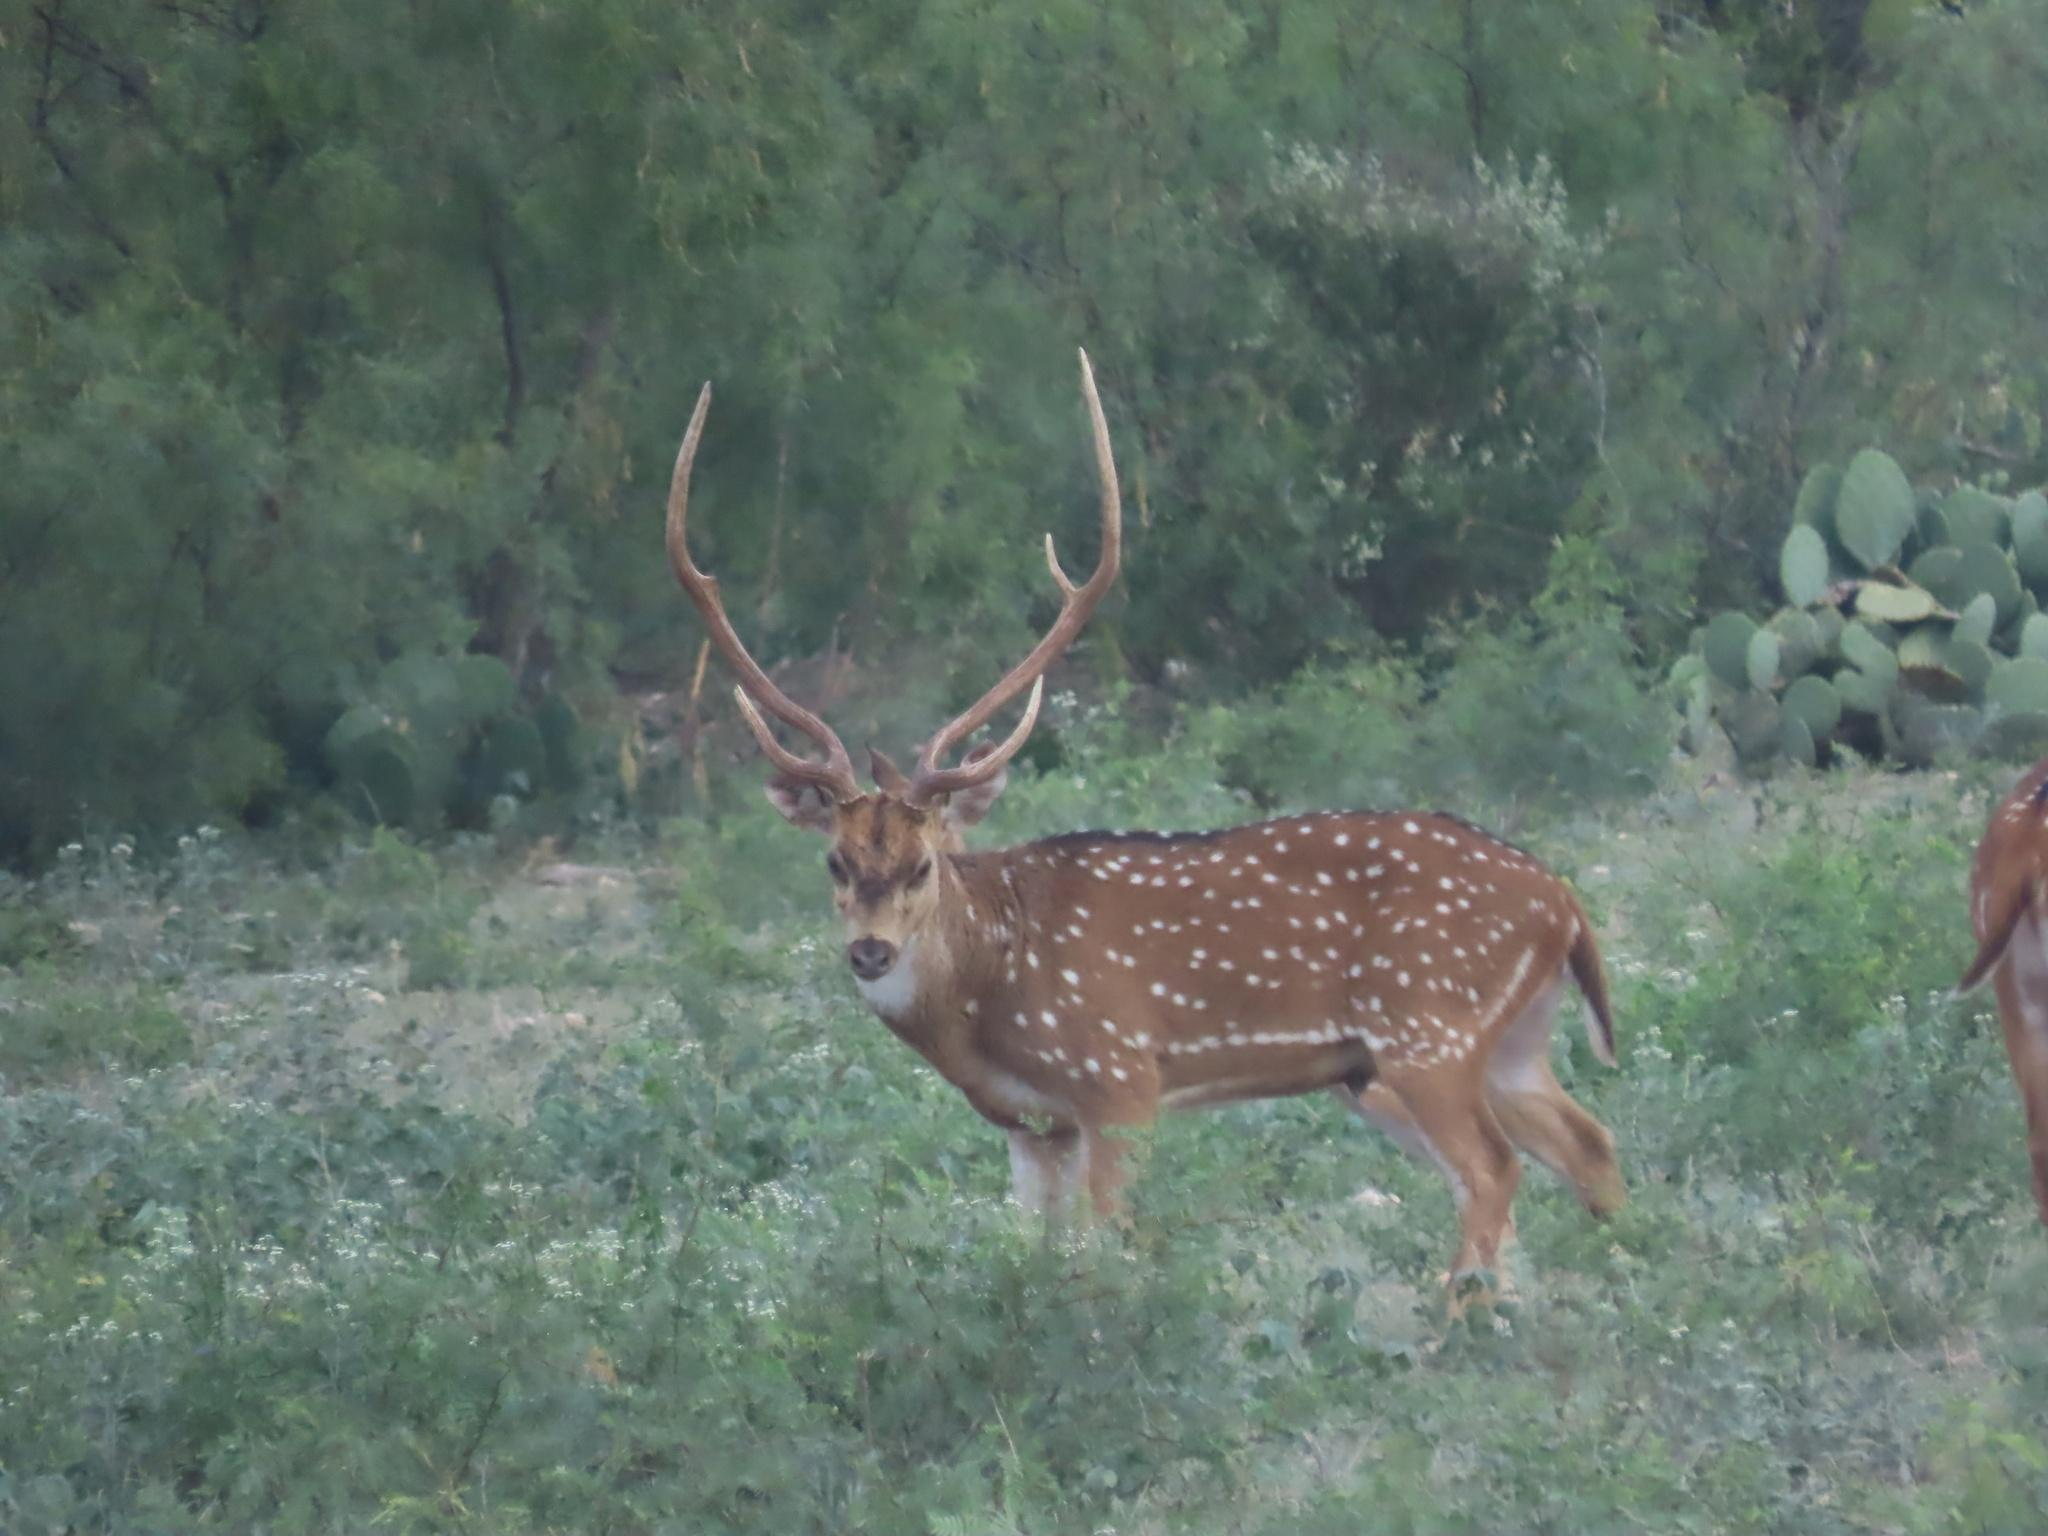Deer: (666, 350, 1624, 1312)
